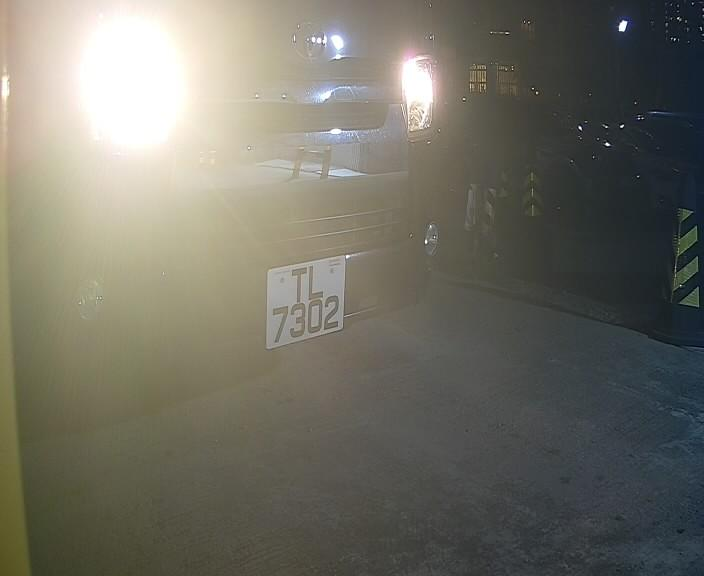Car: (35, 1, 516, 461)
License Plate: (252, 240, 362, 358)
